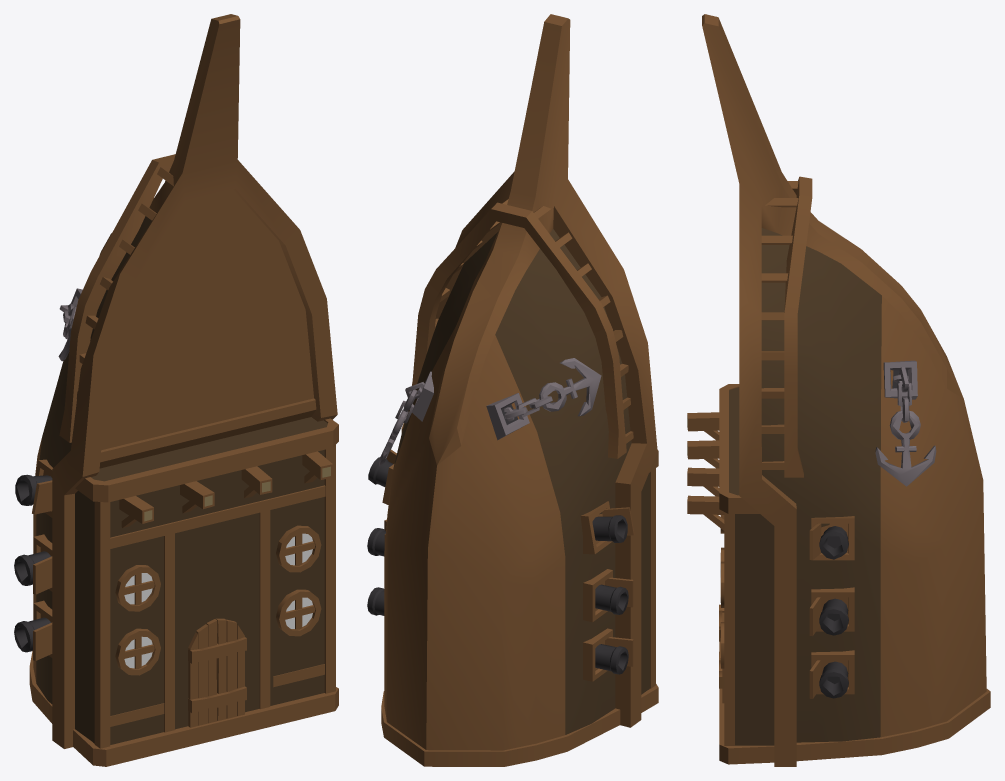
The model's file is house2.glb.
3 renders of one model, left to right at view 1: azimuth 30°, elevation 25°; view 2: azimuth 150°, elevation 25°; view 3: azimuth 270°, elevation 25°, orthographic. The views are drawn at different scales.
Visible parts, largest first — view 1: Environment_House2; view 2: Environment_House2; view 3: Environment_House2.
Part boxes in pixels (x1,y1,x2,y2): Environment_House2: [14, 14, 338, 766]; Environment_House2: [367, 14, 658, 766]; Environment_House2: [687, 14, 990, 766].
Size of the model in its own units: 3.77 by 9.38 by 3.74.
